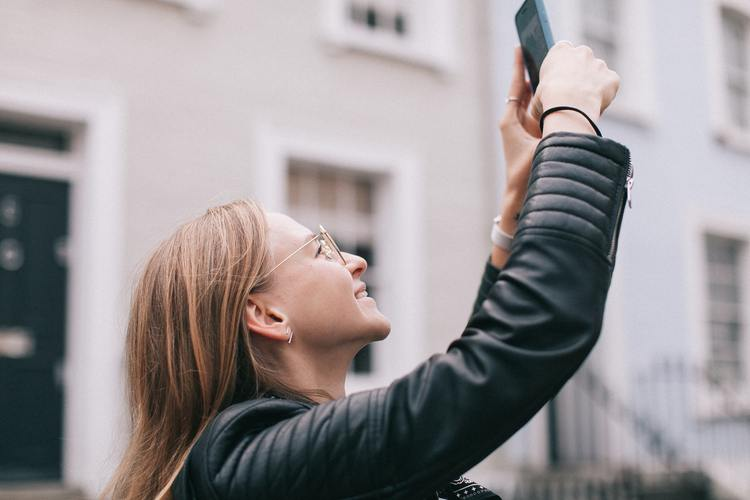taking photos: (498, 1, 624, 192)
